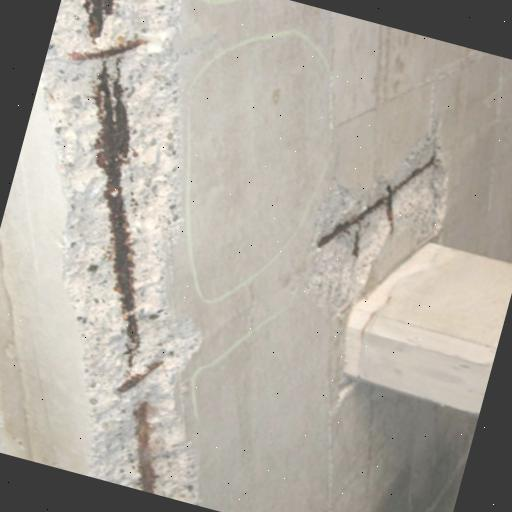spalling: (41, 0, 204, 504), (308, 124, 456, 311)
